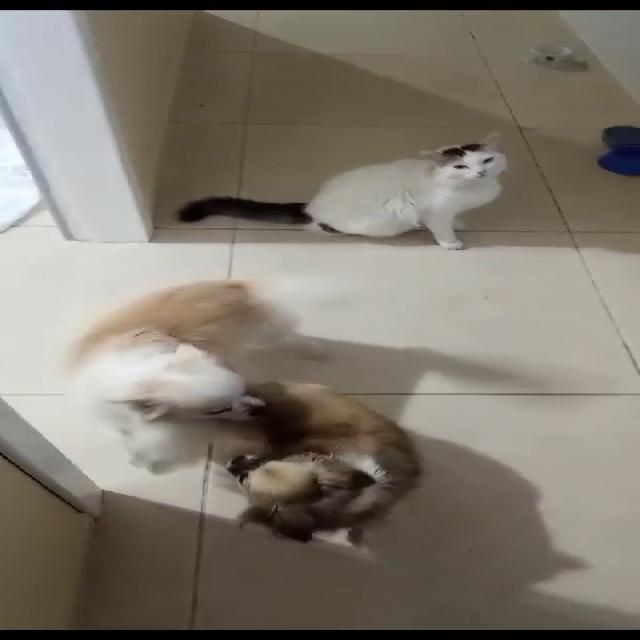Pedrita: (141, 352, 466, 560)
